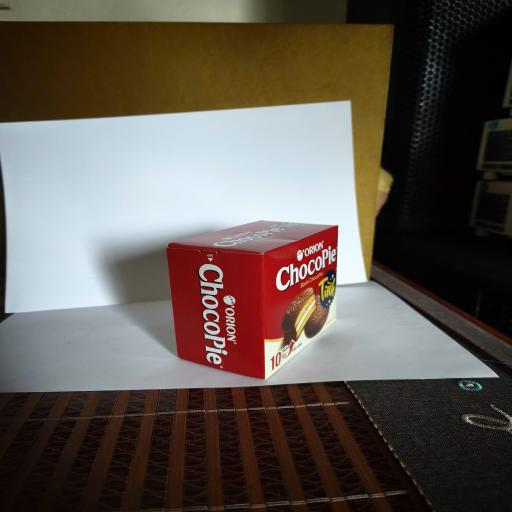chocopie: (166, 220, 339, 380)
